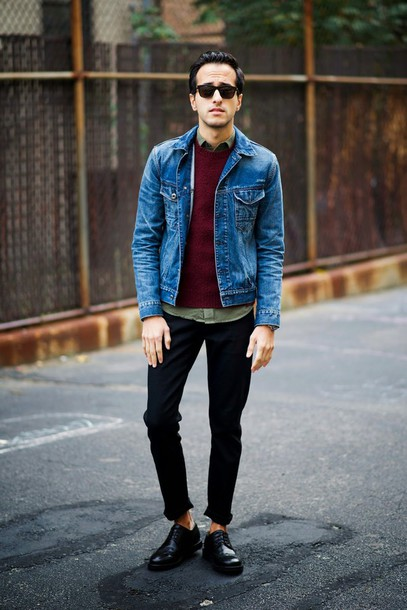jeans: (152, 303, 240, 523)
sunglasses: (187, 82, 239, 102)
